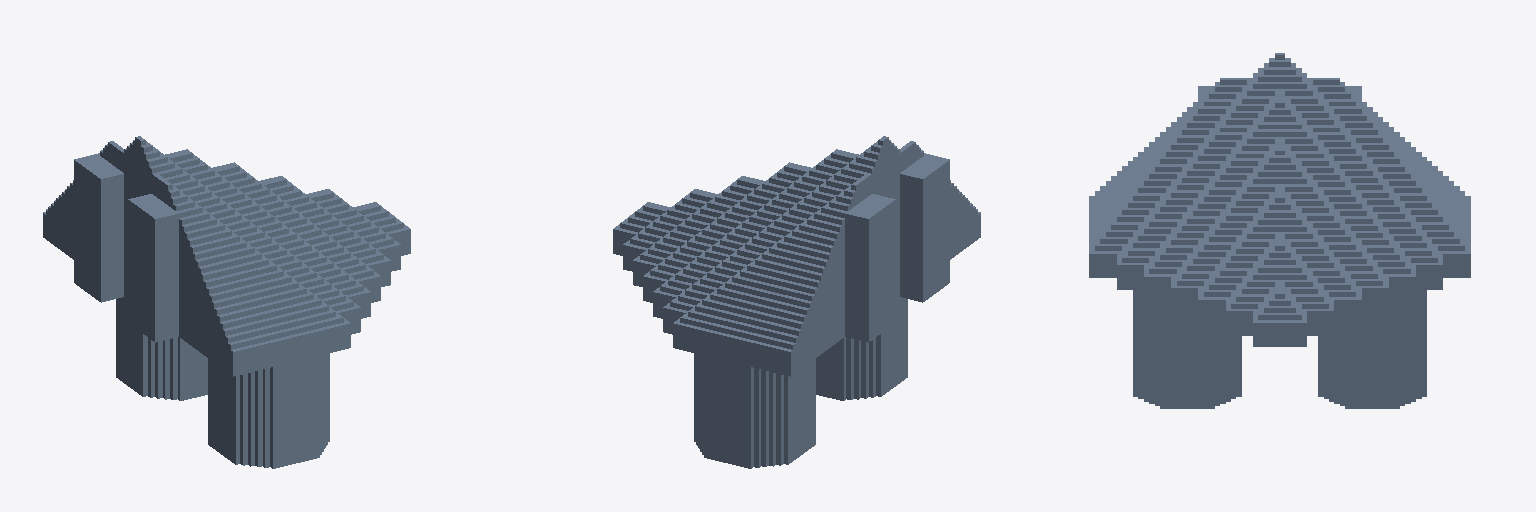
The picture shows the model from 3 angles: view 1: azimuth 30°, elevation 25°; view 2: azimuth 150°, elevation 25°; view 3: azimuth 270°, elevation 25°; orthographic projection.
Visible parts, largest first — view 1: object 1; view 2: object 1; view 3: object 1.
Boxes of the visible parts, box(x1,y1,x2,y2) form: object 1: box(43, 136, 410, 468); object 1: box(613, 136, 980, 468); object 1: box(1089, 53, 1470, 408).
Bounding box in the file's own units: 6 × 5.9 × 7.
Materials: 1 (1 with a texture image).